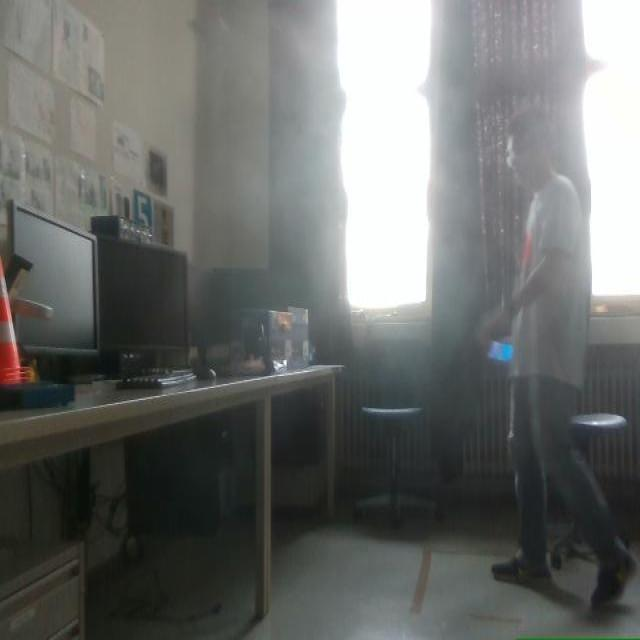humans: (479, 104, 639, 610)
objects: (357, 338, 435, 522), (10, 199, 98, 361), (104, 239, 187, 374), (573, 412, 626, 427)
